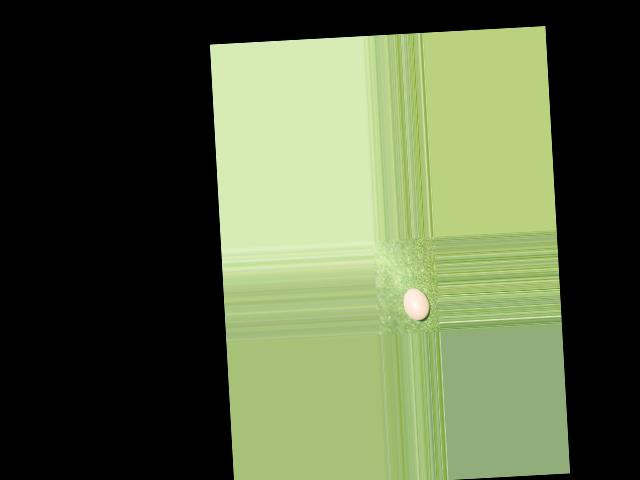egg: (403, 286, 430, 320)
